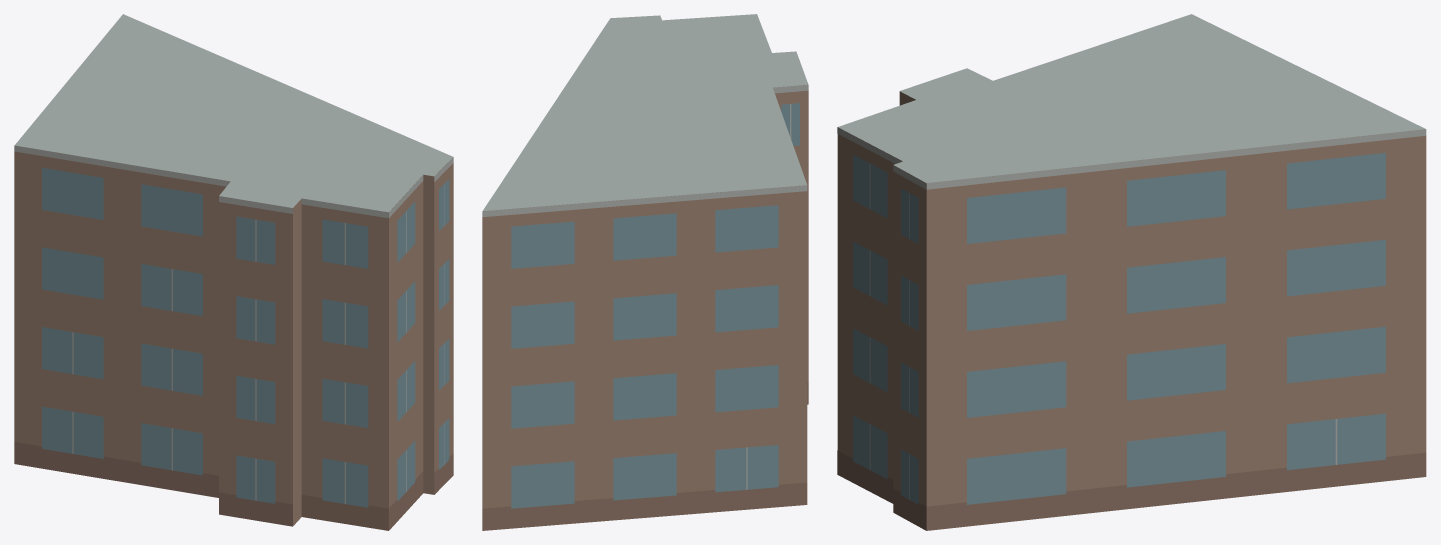
File: survey-upis-32674896.glb
3 renders of one model, left to right at view 1: azimuth 30°, elevation 25°; view 2: azimuth 150°, elevation 25°; view 3: azimuth 270°, elevation 25°, orthographic. The views are drawn at different scales.
Parts seen in each view (by area): view 1: survey-upis-32674896.tmp; view 2: survey-upis-32674896.tmp; view 3: survey-upis-32674896.tmp.
Boxes of the visible parts, x1=… form: survey-upis-32674896.tmp: x1=14, y1=14, x2=453, y2=530; survey-upis-32674896.tmp: x1=482, y1=14, x2=808, y2=530; survey-upis-32674896.tmp: x1=837, y1=14, x2=1426, y2=530.
Bounding box in the file's own units: 13.57 × 12.99 × 19.95.
